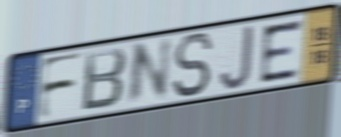B: (80, 45, 128, 114)
E: (259, 17, 304, 87)
F: (35, 49, 86, 122)
J: (218, 22, 256, 92)
N: (124, 34, 174, 110)
S: (170, 31, 215, 100)
